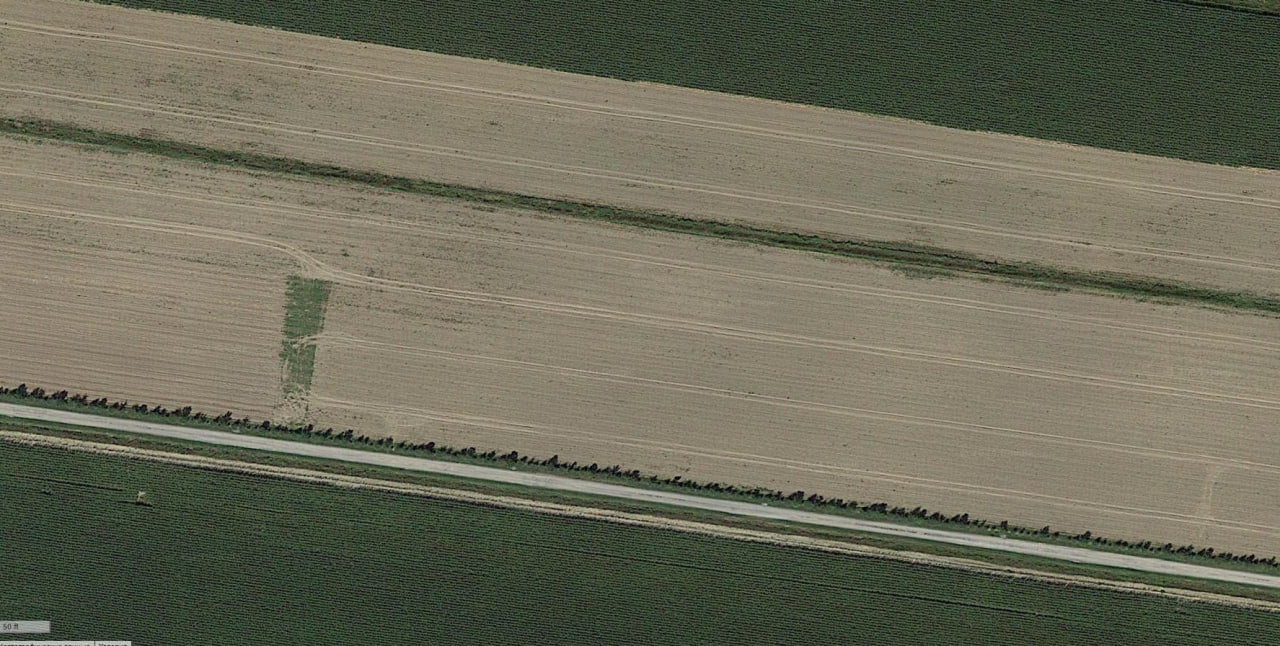Sown field: (113, 0, 1280, 169)
